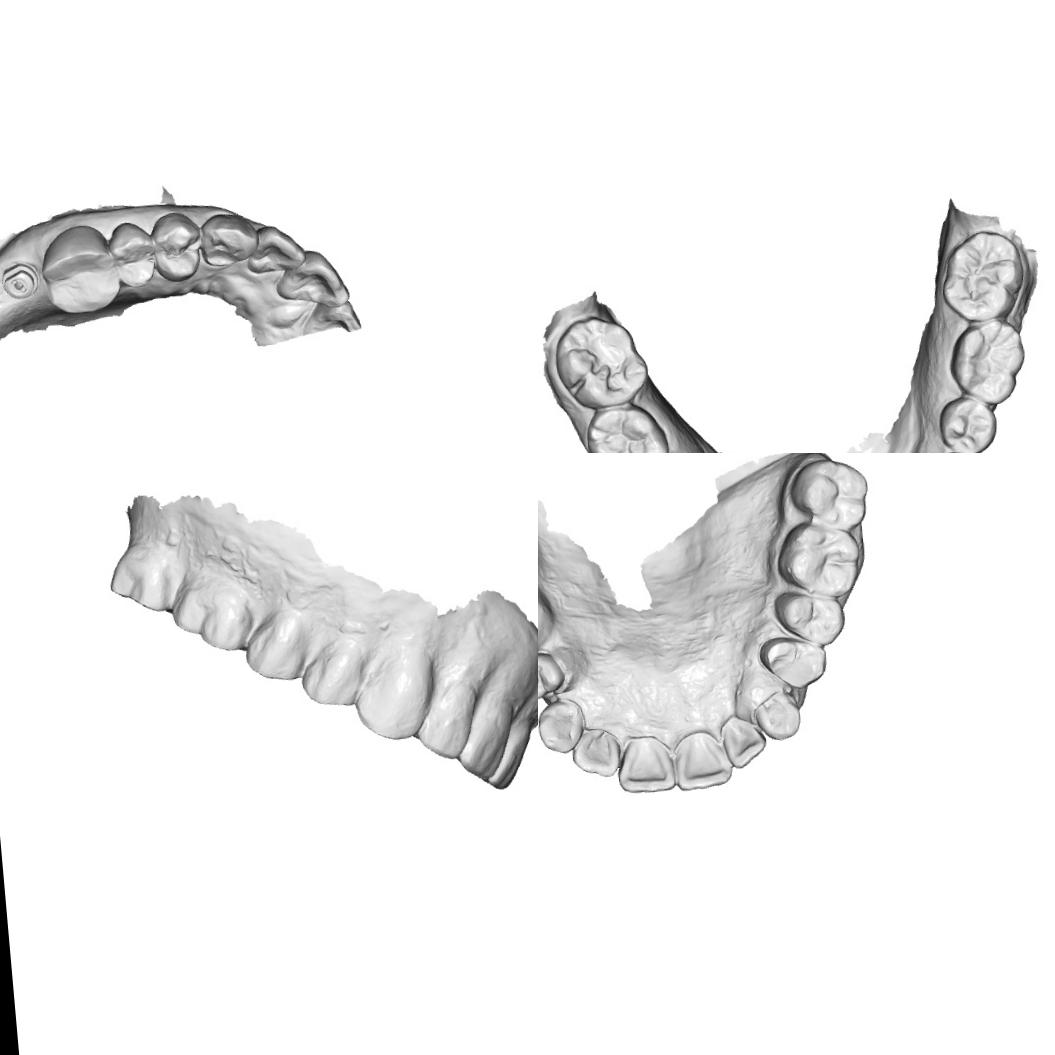canine: (346, 654, 442, 748), (196, 206, 261, 276), (538, 694, 592, 759), (747, 688, 803, 743)
implant_minus: (0, 258, 42, 302)
incisor: (409, 675, 484, 767), (452, 697, 522, 785), (269, 245, 350, 313), (670, 729, 736, 794), (614, 730, 678, 796), (246, 218, 308, 276), (483, 724, 532, 791), (568, 727, 625, 783), (718, 710, 768, 772)
molar: (549, 310, 653, 414), (934, 225, 1030, 325), (771, 514, 868, 604), (34, 222, 122, 320), (942, 316, 1029, 412), (169, 579, 270, 656), (99, 535, 188, 616), (787, 453, 874, 533), (573, 395, 674, 453)
premolar: (296, 636, 374, 713), (768, 584, 848, 651), (237, 620, 318, 686), (756, 630, 831, 695), (146, 207, 204, 286), (934, 390, 1001, 453), (106, 218, 161, 292), (538, 647, 569, 705)
